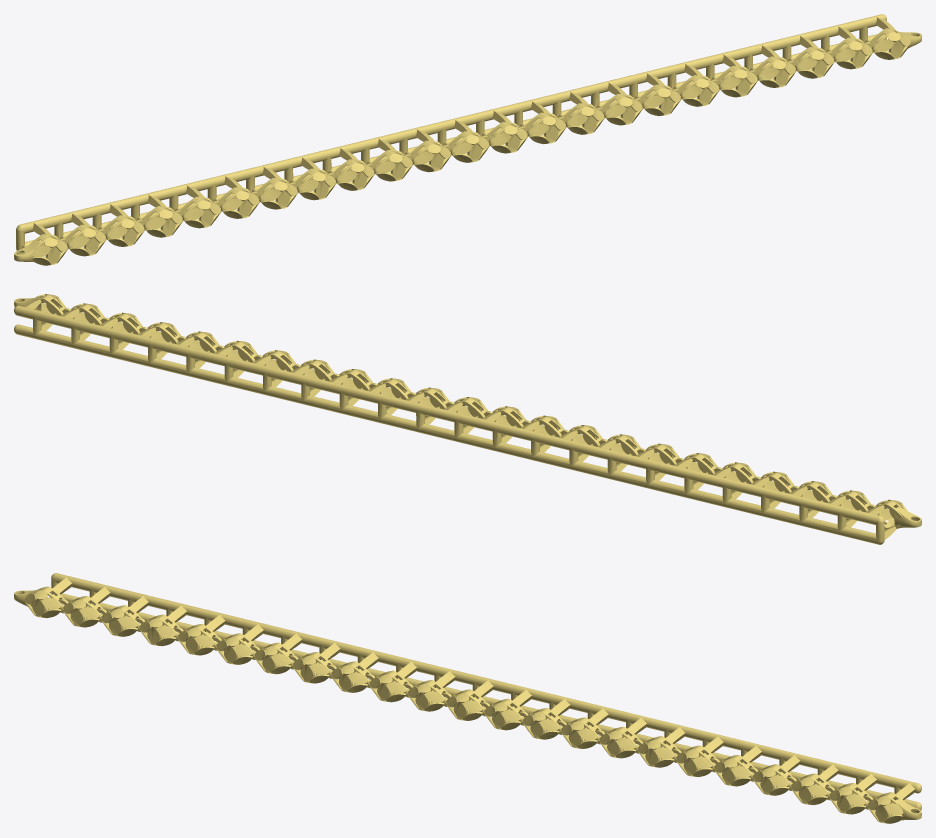
The model's file is yzn5-95.glb.
3 views of the same model, one above another, from view 1: azimuth 30°, elevation 25°; view 2: azimuth 150°, elevation 25°; view 3: azimuth 330°, elevation 25° (orthographic).
Parts seen in each view (by area): view 1: Renderer Node; view 2: Renderer Node; view 3: Renderer Node.
Part boxes in pixels (x1,y1,x2,y2): Renderer Node: (14, 14, 921, 265); Renderer Node: (14, 294, 921, 544); Renderer Node: (14, 573, 921, 823).
Bounding box in the file's own units: 179 × 5.34 × 9.5.
